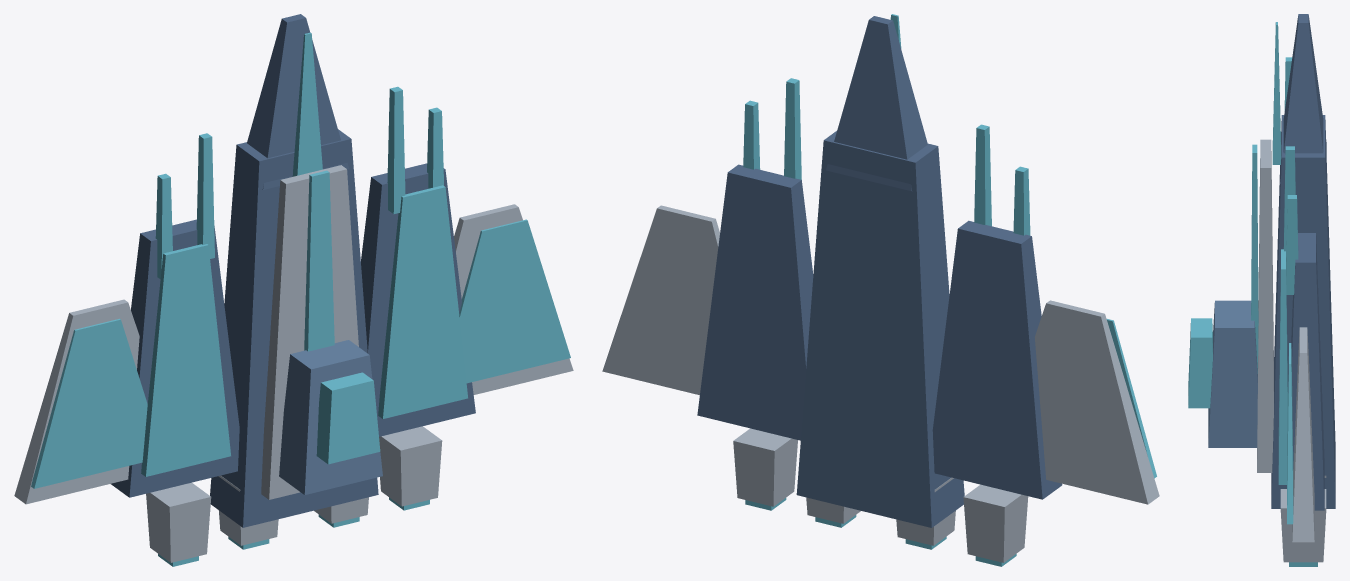
Rendered from ship_aegis_titan.glb.
The picture shows the model from 3 angles, left to right: view 1: azimuth 30°, elevation 25°; view 2: azimuth 150°, elevation 25°; view 3: azimuth 270°, elevation 25°; orthographic projection. The views are drawn at different scales.
Visible parts, largest first — view 1: BattleshipHull; view 2: BattleshipHull; view 3: BattleshipHull.
Boxes of the visible parts, x1=… form: BattleshipHull: x1=14, y1=14, x2=573, y2=566; BattleshipHull: x1=602, y1=14, x2=1159, y2=566; BattleshipHull: x1=1188, y1=14, x2=1335, y2=566.
Size of the model in its own units: 5.45 by 4.87 by 1.33.
